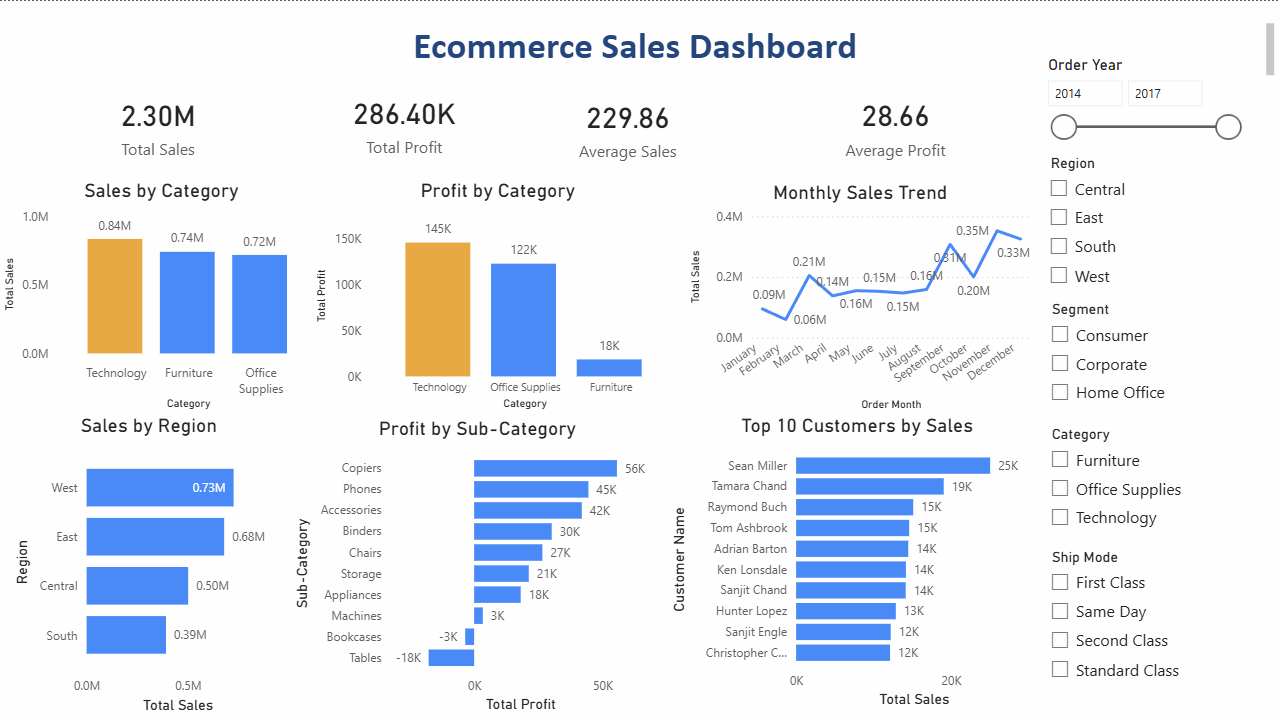

This screenshot's page, from the dashboard's own definition file:
{"tool":"powerbi","page":{"name":" Sales Dashboard","canvas":[1280,720],"ordinal":0},"visuals":[{"type":"textbox","box":[0,17.4,1280,74.6],"z":0},{"type":"card","fields":{"Values":["superstore_cleaned.Total Sales"]},"box":[6.9,70,306,107],"z":1000},{"type":"card","fields":{"Values":["superstore_cleaned.Total Profit"]},"box":[279.9,65.9,251.1,111.1],"z":2000},{"type":"card","fields":{"Values":["superstore_cleaned.Average Sales"]},"box":[499.5,70,258,111.1],"z":3000},{"type":"card","fields":{"Values":["superstore_cleaned.Average Profit"]},"box":[757.5,68.6,278.6,111.1],"z":4000},{"type":"lineChart","title":"Monthly Sales Trend","fields":{"Category":["superstore_cleaned.Order Month"],"Y":["superstore_cleaned.Total Sales"]},"box":[686.1,180.6,349.9,234.6],"z":5000},{"type":"clusteredColumnChart","title":" Sales by Category","fields":{"Category":["superstore_cleaned.Category"],"Y":["superstore_cleaned.Total Sales"]},"box":[0,179.2,325.2,234.6],"z":6000},{"type":"clusteredBarChart","title":" Sales by Region","fields":{"Category":["superstore_cleaned.Region"],"Y":["superstore_cleaned.Total Sales"]},"box":[9.6,413.9,279.9,303.3],"z":7000},{"type":"clusteredColumnChart","title":"Profit by Category","fields":{"Category":["superstore_cleaned.Category"],"Y":["superstore_cleaned.Total Profit"]},"box":[312.9,179.2,373.2,234.6],"z":8000},{"type":"clusteredBarChart","title":"Top 10 Customers by Sales","fields":{"Category":["superstore_cleaned.Customer Name"],"Y":["superstore_cleaned.Total Sales"]},"box":[666.9,413.9,381.5,297.8],"z":9000},{"type":"clusteredBarChart","title":"Profit  by Sub-Category","fields":{"Category":["superstore_cleaned.Sub-Category"],"Y":["superstore_cleaned.Total Profit"]},"box":[289.5,416.6,377.4,300.5],"z":10000},{"type":"slicer","fields":{"Values":["superstore_cleaned.Order Year"]},"box":[1036,49.4,214.1,205.8],"z":11000},{"type":"slicer","fields":{"Values":["superstore_cleaned.Region"]},"box":[1038.8,148.8,233.8,146.2],"z":12000},{"type":"slicer","fields":{"Values":["superstore_cleaned.Segment"]},"box":[1040,295,232.5,120],"z":13000},{"type":"slicer","fields":{"Values":["superstore_cleaned.Category"]},"box":[1040,420,232.5,122.5],"z":14000},{"type":"slicer","fields":{"Values":["superstore_cleaned.Ship Mode"]},"box":[1040.1,542,231.9,159.2],"z":15000},{"type":"textbox","box":[992.1,671,56.3,30.2],"z":16000}]}

Visuals, with their boxes in screenshot pixels (x1, y1, x2, y2), scaled from the page's 1280x720 canvas onto the 1279x719 screenshot:
textbox: box=[0, 17, 1278, 92]
card - superstore_cleaned.Total Sales: box=[7, 70, 313, 177]
card - superstore_cleaned.Total Profit: box=[280, 66, 531, 177]
card - superstore_cleaned.Average Sales: box=[499, 70, 757, 181]
card - superstore_cleaned.Average Profit: box=[757, 69, 1035, 179]
"Monthly Sales Trend" lineChart: box=[686, 180, 1035, 415]
" Sales by Category" clusteredColumnChart: box=[0, 179, 325, 413]
" Sales by Region" clusteredBarChart: box=[10, 413, 289, 716]
"Profit by Category" clusteredColumnChart: box=[313, 179, 686, 413]
"Top 10 Customers by Sales" clusteredBarChart: box=[666, 413, 1048, 711]
"Profit  by Sub-Category" clusteredBarChart: box=[289, 416, 666, 716]
slicer - superstore_cleaned.Order Year: box=[1035, 49, 1249, 255]
slicer - superstore_cleaned.Region: box=[1038, 149, 1272, 295]
slicer - superstore_cleaned.Segment: box=[1039, 295, 1272, 414]
slicer - superstore_cleaned.Category: box=[1039, 419, 1272, 542]
slicer - superstore_cleaned.Ship Mode: box=[1039, 541, 1271, 700]
textbox: box=[991, 670, 1048, 700]
